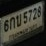num6: (2, 19, 9, 31)
txt01: (8, 16, 15, 30)
txt21: (15, 12, 21, 27)
